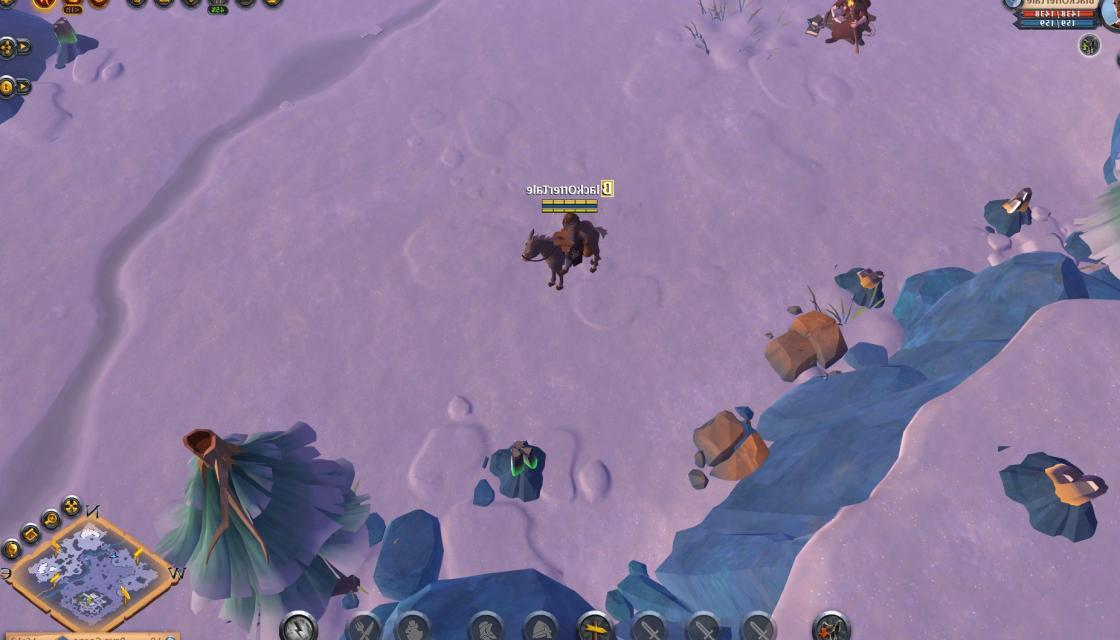copperore: (1002, 450, 1110, 544), (982, 181, 1041, 234), (836, 263, 889, 309)
limestone: (691, 408, 769, 488), (768, 308, 846, 382)
tinore: (490, 435, 548, 505), (45, 18, 97, 66)
